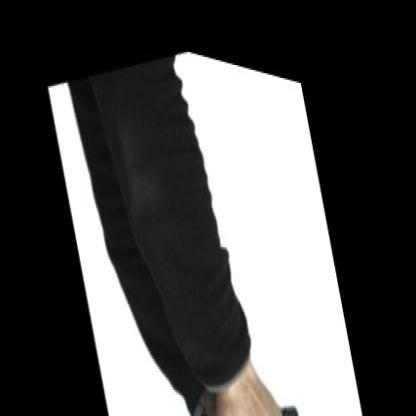pistol: (244, 368, 314, 414)
